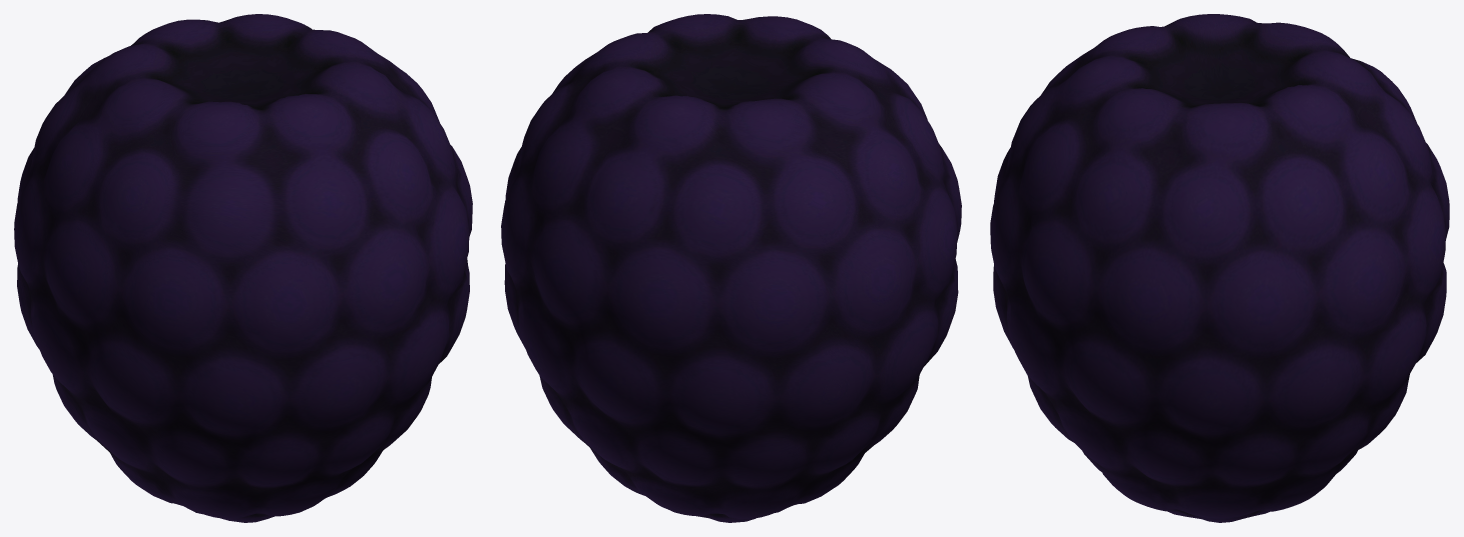
File: blackberry.fbx
3 views of the same model, side by side, from view 1: azimuth 30°, elevation 25°; view 2: azimuth 150°, elevation 25°; view 3: azimuth 270°, elevation 25° (orthographic).
Visible parts, largest first — view 1: Group1; view 2: Group1; view 3: Group1.
Part boxes in pixels (bbox=[...]): Group1: bbox=[14, 14, 472, 522]; Group1: bbox=[501, 14, 961, 522]; Group1: bbox=[990, 14, 1449, 522].
Bounding box in the file's own units: 190 × 203 × 190.
1 material, 1 textured.
